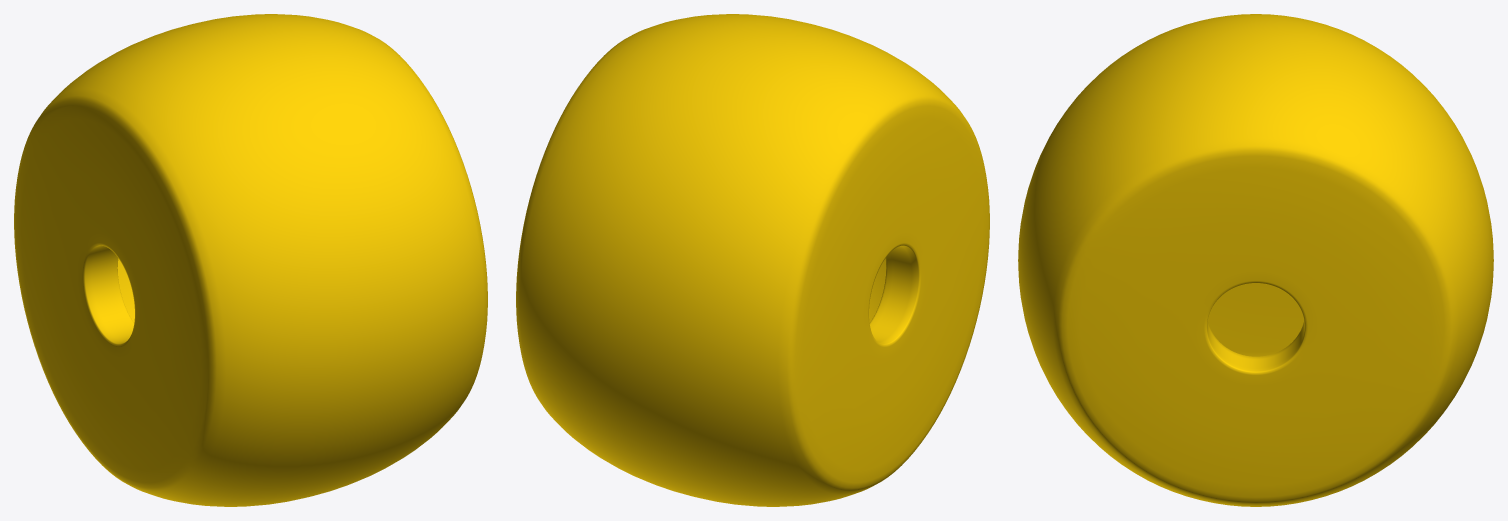
3 views of the same model, side by side, from view 1: azimuth 30°, elevation 25°; view 2: azimuth 150°, elevation 25°; view 3: azimuth 270°, elevation 25° (orthographic). The views are drawn at different scales.
Parts seen in each view (by area): view 1: Group; view 2: Group; view 3: Group.
Boxes of the visible parts, box(x1,y1,x2,y2) form: Group: box(14, 14, 487, 506); Group: box(516, 14, 989, 506); Group: box(1018, 14, 1493, 506).
Bounding box in the file's own units: 0.0041 × 0.0061 × 0.0061.
